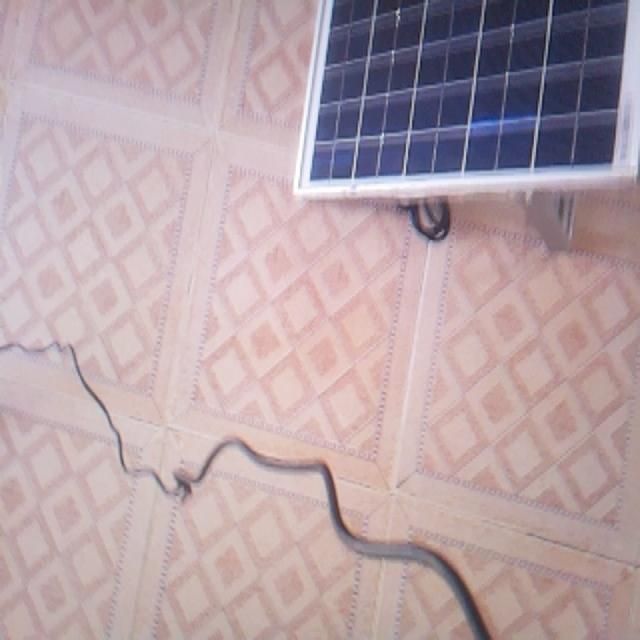Normal Solar Panel: (296, 0, 640, 197)
